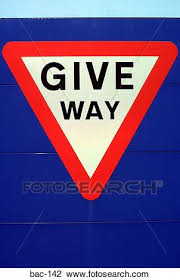giveway: (1, 38, 180, 203)
